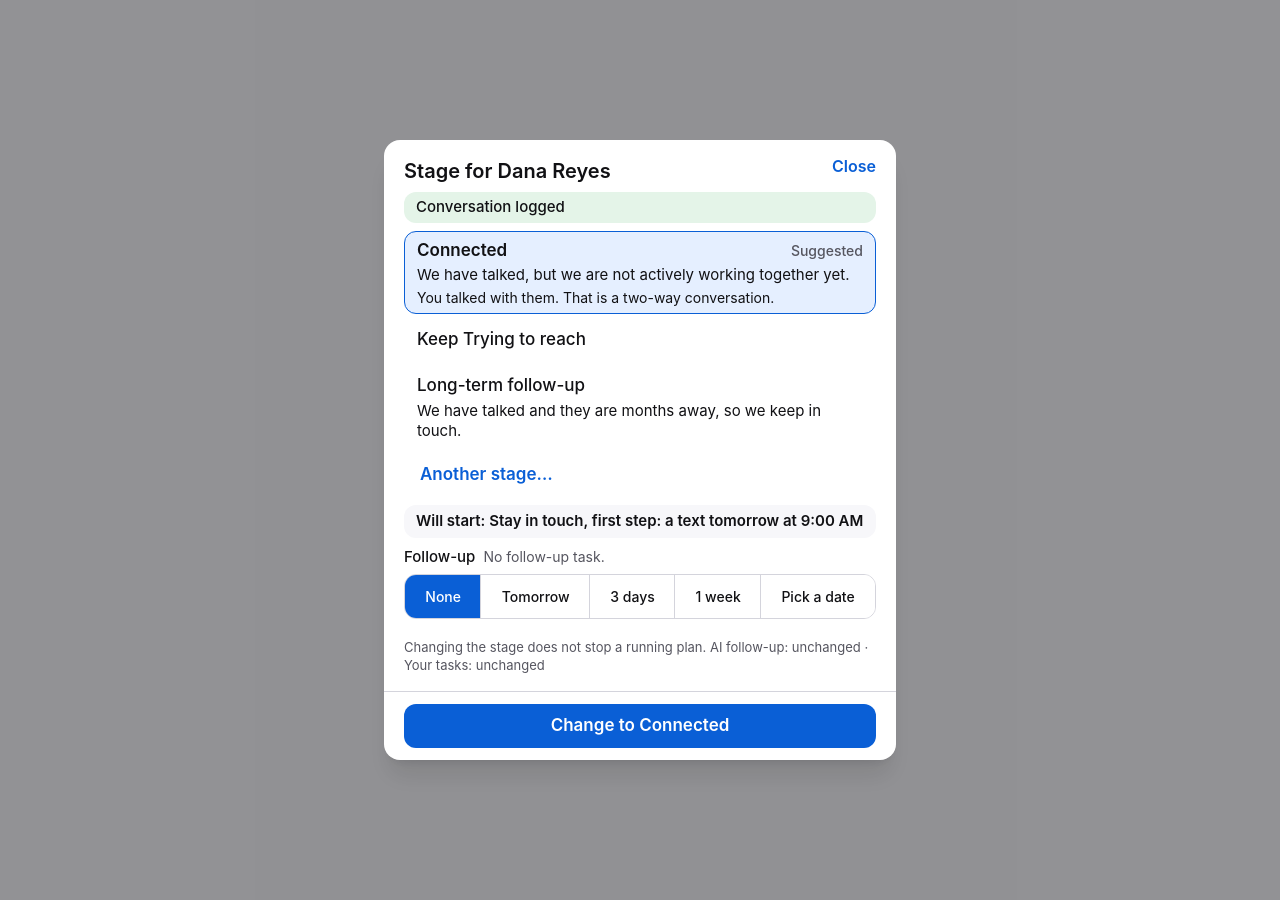
the stage step after an outcome › a conversation: "Connected" is suggested and "Long-term follow-up" is offered beside it because the server offers it; a plan that will start is in the preview
The image size is (1280, 900).
Expected: the radio button labelled "Connected Suggested" is checked, [404,231,876,314]
Expected: the radio button labelled "Keep Trying to reach" is not checked, [404,318,876,362]
Step 1. Click the radio button labelled "Long-term follow-up" → [640, 408], box [404,366,876,449]
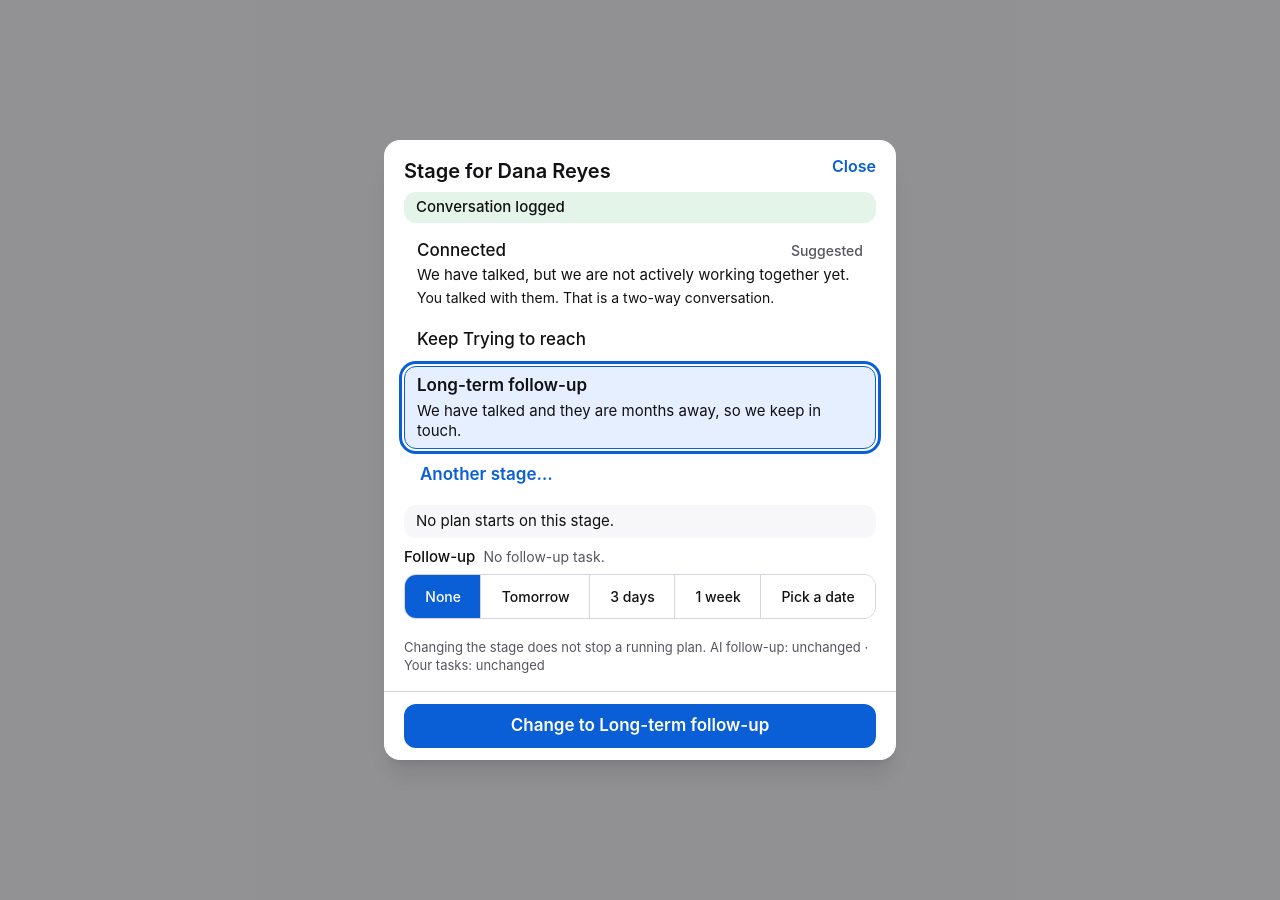
Result: the button "Change to Long-term follow-up" is shown at [404,704,876,748]
Result: the text with test id "stage-step-effect" reads "No plan starts on this stage." at [416,511,614,530]
